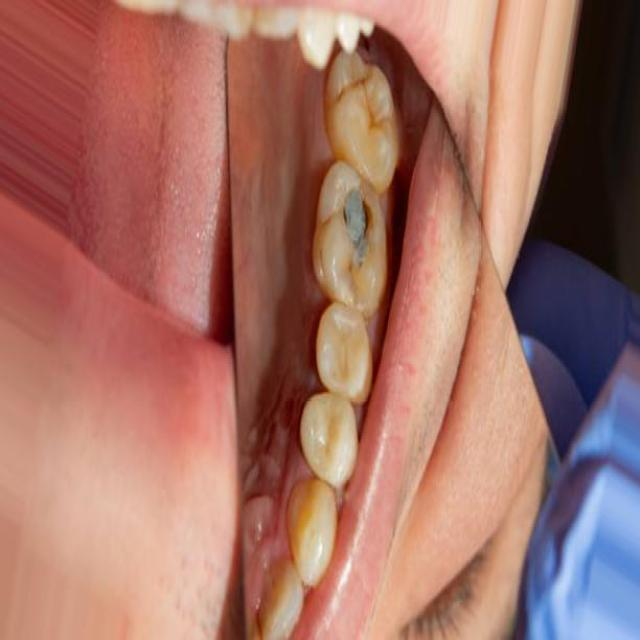caries: (327, 168, 387, 305), (328, 56, 390, 142)
